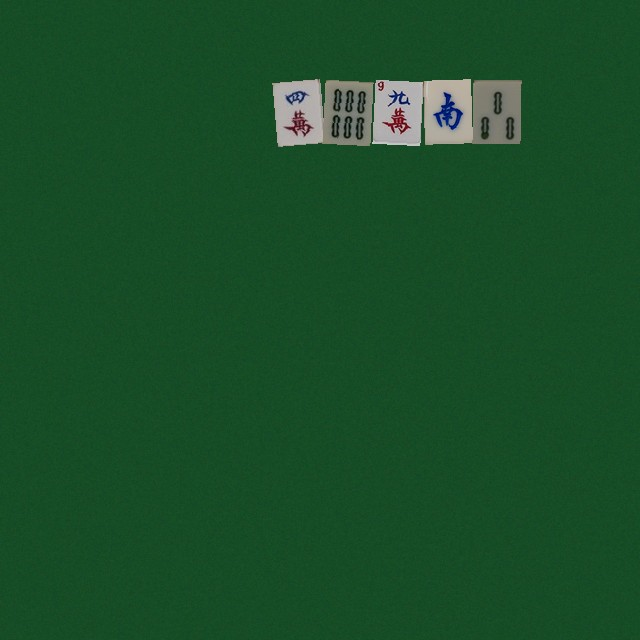tile: (272, 79, 320, 143), (322, 79, 370, 143), (372, 79, 420, 143), (422, 79, 470, 143), (472, 79, 520, 143)
